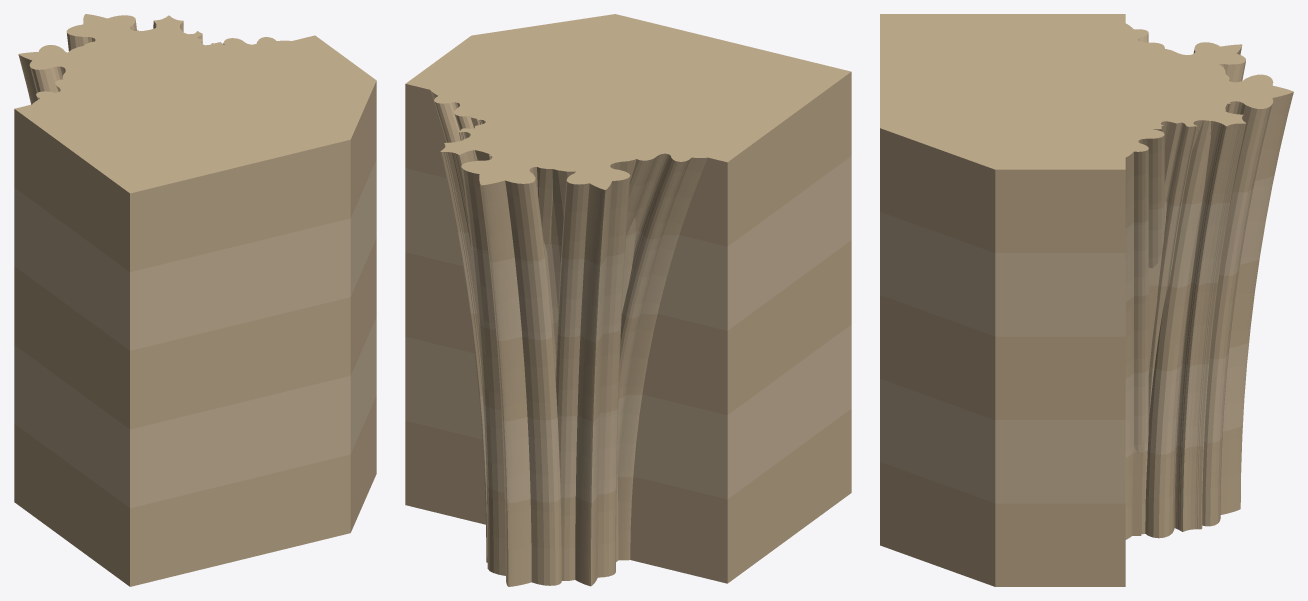
The model's file is INTERFACE_SPECIMEN_R01.glb.
The picture shows the model from 3 angles, left to right: view 1: azimuth 30°, elevation 25°; view 2: azimuth 150°, elevation 25°; view 3: azimuth 270°, elevation 25°; orthographic projection. The views are drawn at different scales.
Visible parts, largest first — view 1: course_05, course_02, course_01, course_03, course_04; view 2: course_05, course_01, course_02, course_03, course_04; view 3: course_05, course_04, course_03, course_02, course_01.
Part boxes in pixels (x1,y1,x2,y2): course_05: (14, 14, 376, 271); course_02: (14, 317, 376, 508); course_01: (14, 396, 376, 586); course_03: (14, 238, 376, 429); course_04: (14, 159, 376, 350); course_05: (405, 14, 851, 264); course_01: (405, 409, 851, 586); course_02: (405, 324, 851, 503); course_03: (405, 240, 851, 421); course_04: (405, 156, 851, 342); course_05: (880, 14, 1293, 252); course_04: (880, 175, 1274, 336); course_03: (880, 259, 1259, 419); course_02: (880, 342, 1249, 503); course_01: (880, 426, 1242, 586).
Bounding box in the file's own units: 480 × 600 × 539.
